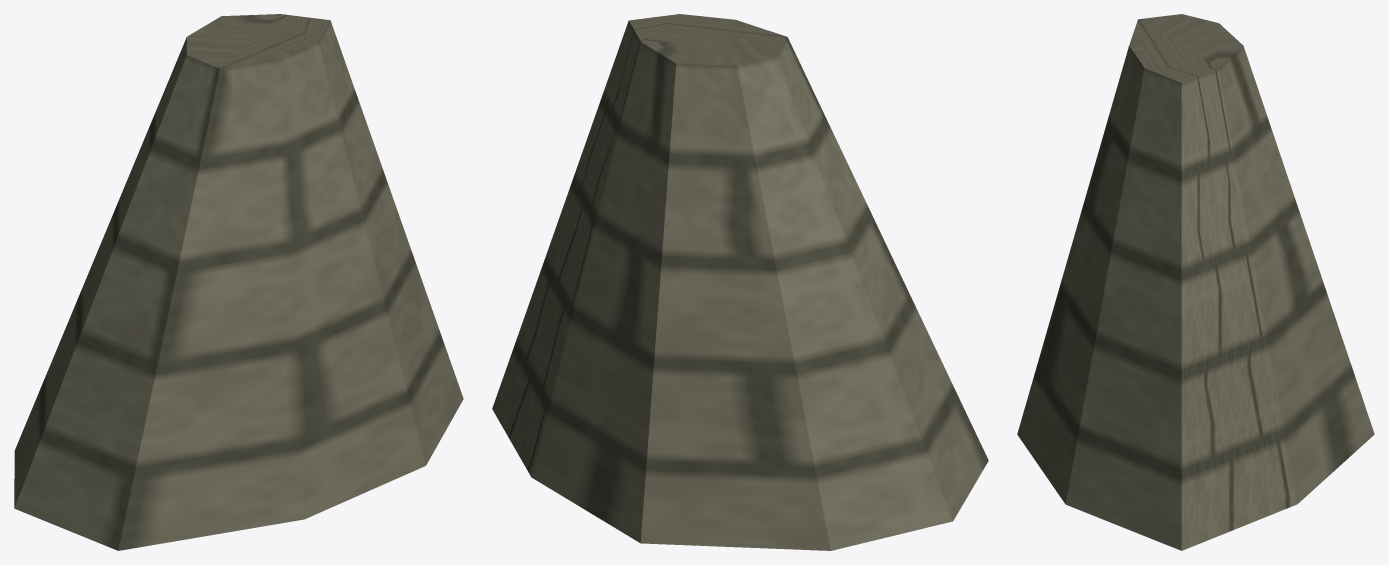
Rendered from cliff-karst-lod1.glb.
3 renders of one model, left to right at view 1: azimuth 30°, elevation 25°; view 2: azimuth 150°, elevation 25°; view 3: azimuth 270°, elevation 25°, orthographic. The views are drawn at different scales.
Bounding box in the file's own units: 0.5604 × 0.49 × 0.3929.
Materials: 1 (1 with a texture image).
